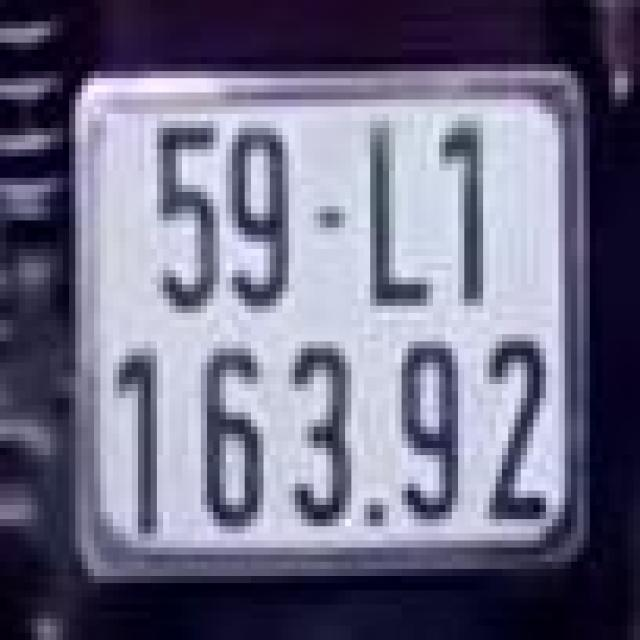1: (107, 334, 169, 555), (452, 103, 502, 324)
2: (474, 327, 555, 541)
3: (276, 334, 364, 534)
5: (138, 110, 220, 316)
6: (191, 334, 273, 534)
9: (223, 118, 298, 316), (386, 334, 455, 526)
L: (354, 103, 442, 317)
